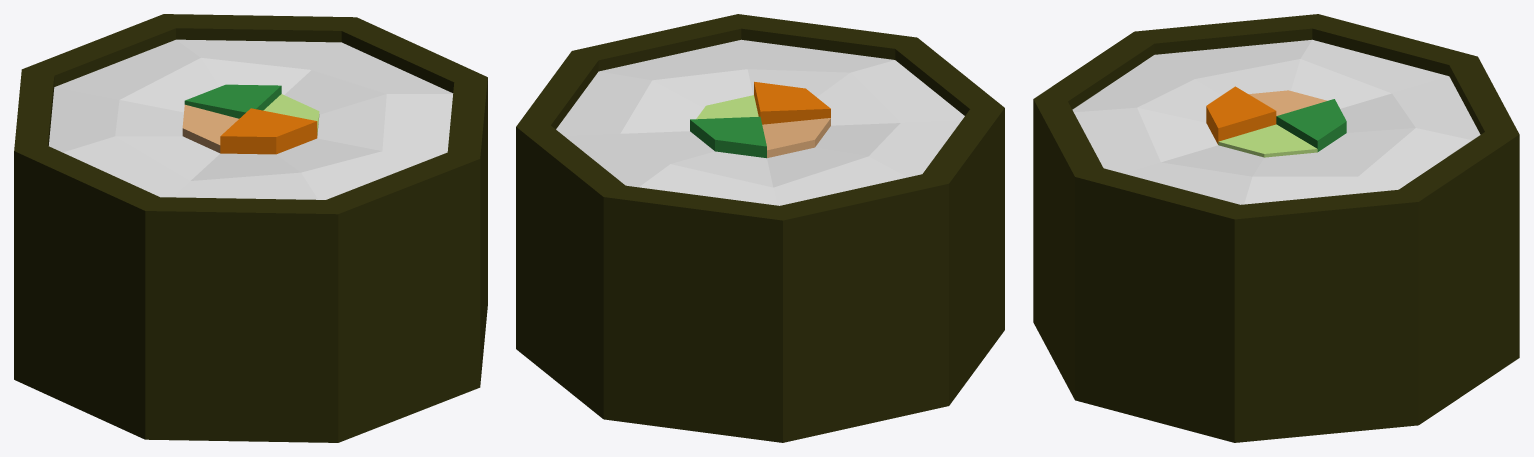
The model's file is m_coloniusLory_Maki_Avocat_003.fbx.
The picture shows the model from 3 angles, left to right: view 1: azimuth 30°, elevation 25°; view 2: azimuth 150°, elevation 25°; view 3: azimuth 270°, elevation 25°; orthographic projection. The views are drawn at different scales.
Visible parts, largest first — view 1: m_coloniusLory_Maki_Avocat_003; view 2: m_coloniusLory_Maki_Avocat_003; view 3: m_coloniusLory_Maki_Avocat_003.
Boxes of the visible parts, bbox=[...] form: m_coloniusLory_Maki_Avocat_003: bbox=[14, 14, 487, 442]; m_coloniusLory_Maki_Avocat_003: bbox=[516, 14, 1004, 442]; m_coloniusLory_Maki_Avocat_003: bbox=[1033, 14, 1519, 442].
Size of the model in its own units: 3.88 by 2.07 by 3.88.
